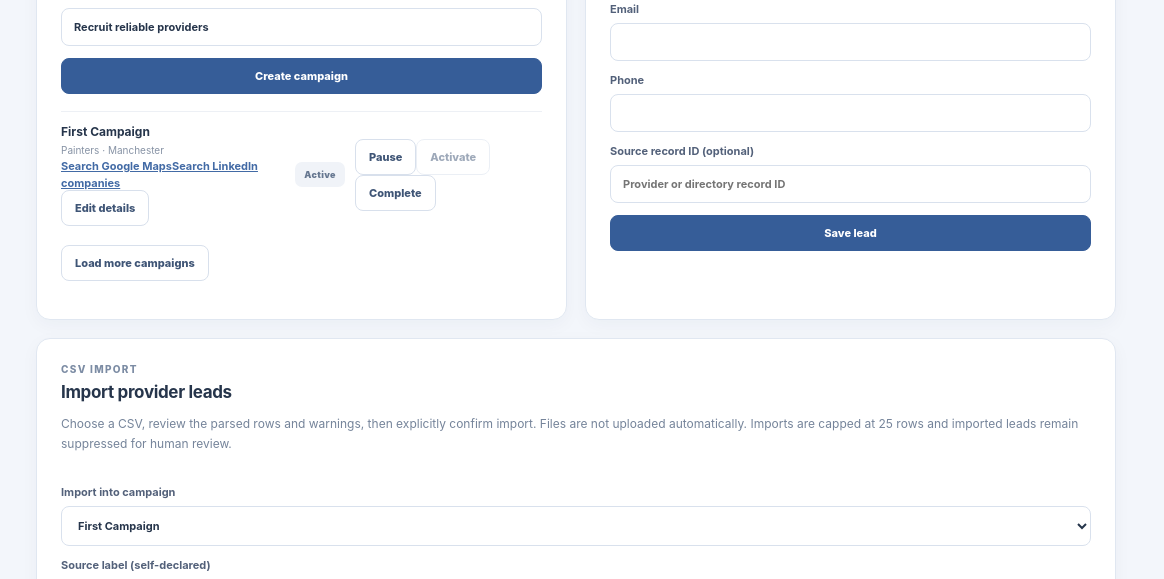
Test case: cloud authentication gate › loads additional campaign pages without replacing the first page
This screenshot has width=1164, height=579.
(page scrolled)
Click the button "Load more campaigns".
click(135, 263)  # box [61,245,209,281]
(page scrolled)
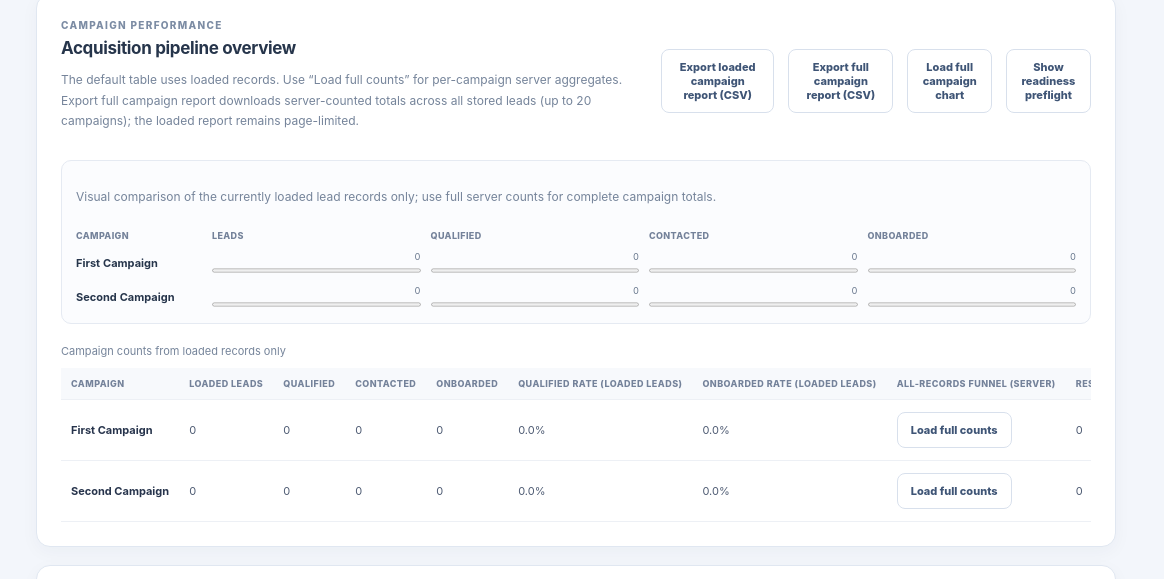
Expected: the 1st text "First Campaign" is shown, [76,256,158,270]
Expected: the 1st text "Second Campaign" is shown, [76,290,174,304]
Expected: the button "Load more campaigns" is gone
